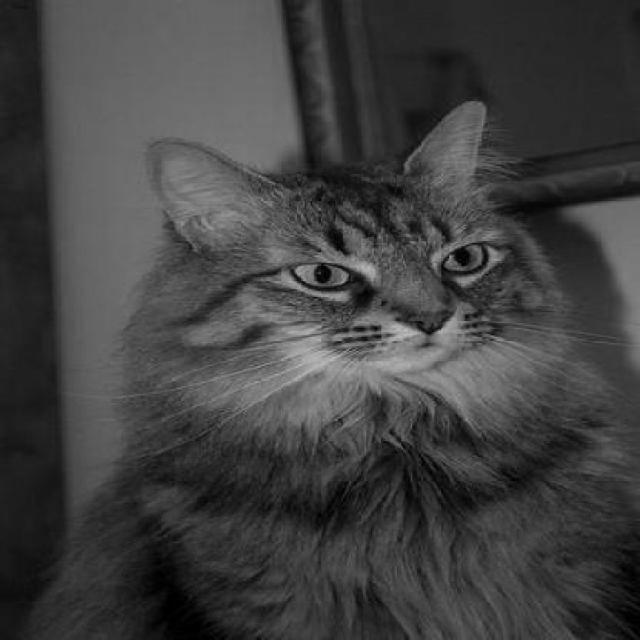Cat: (52, 96, 625, 638)
